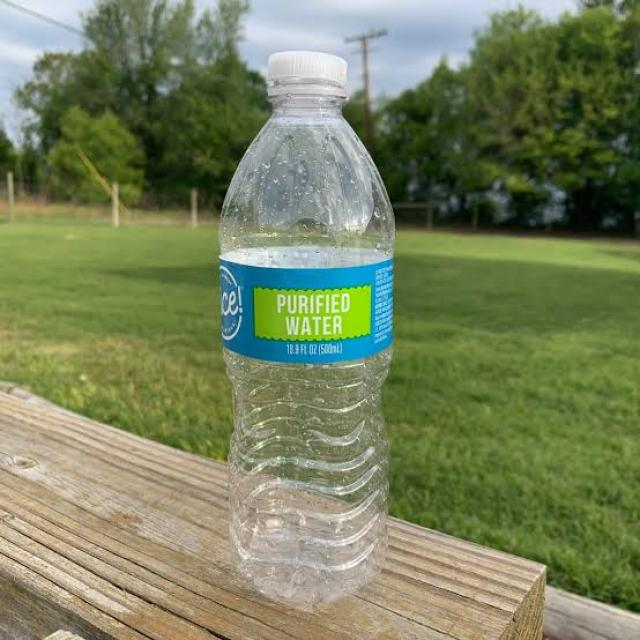plastic bottle: (199, 32, 411, 621)
